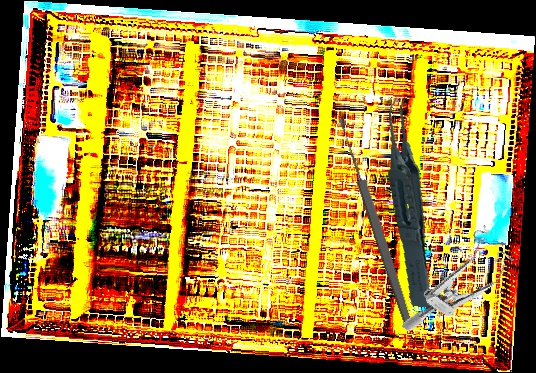Speculum: (401, 218, 521, 358)
Surgical Spoon: (335, 116, 416, 329)
Tissue Forceps: (366, 91, 458, 309)
